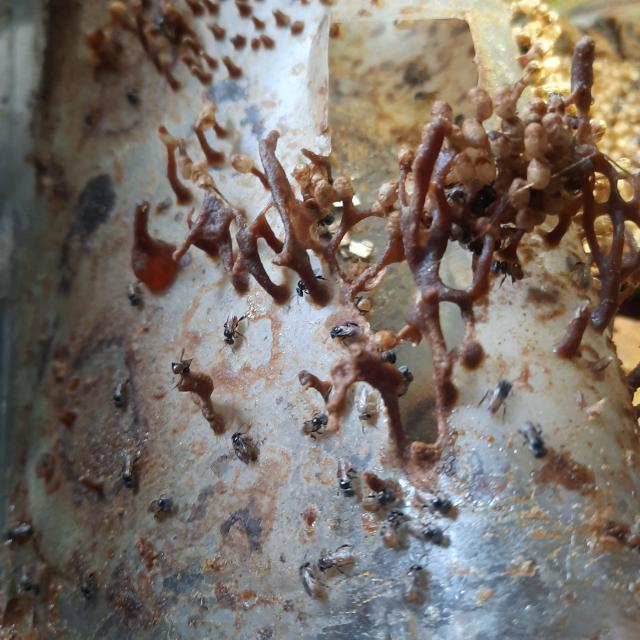honeybee: (296, 560, 326, 599), (291, 274, 331, 301), (317, 547, 354, 574), (227, 431, 257, 464), (0, 519, 38, 544), (486, 380, 511, 417), (521, 425, 549, 458), (486, 259, 517, 288), (409, 520, 446, 544), (424, 495, 464, 517), (404, 563, 426, 602), (382, 510, 403, 549), (119, 278, 147, 307), (223, 311, 243, 349), (365, 487, 401, 508), (303, 410, 328, 440), (120, 452, 140, 488), (334, 458, 354, 494), (308, 206, 340, 227), (152, 491, 179, 514), (168, 352, 197, 373), (78, 574, 101, 600), (374, 342, 396, 365), (326, 323, 356, 339), (446, 184, 471, 203), (19, 575, 41, 596), (116, 381, 133, 408), (120, 87, 139, 110), (396, 363, 416, 384)
